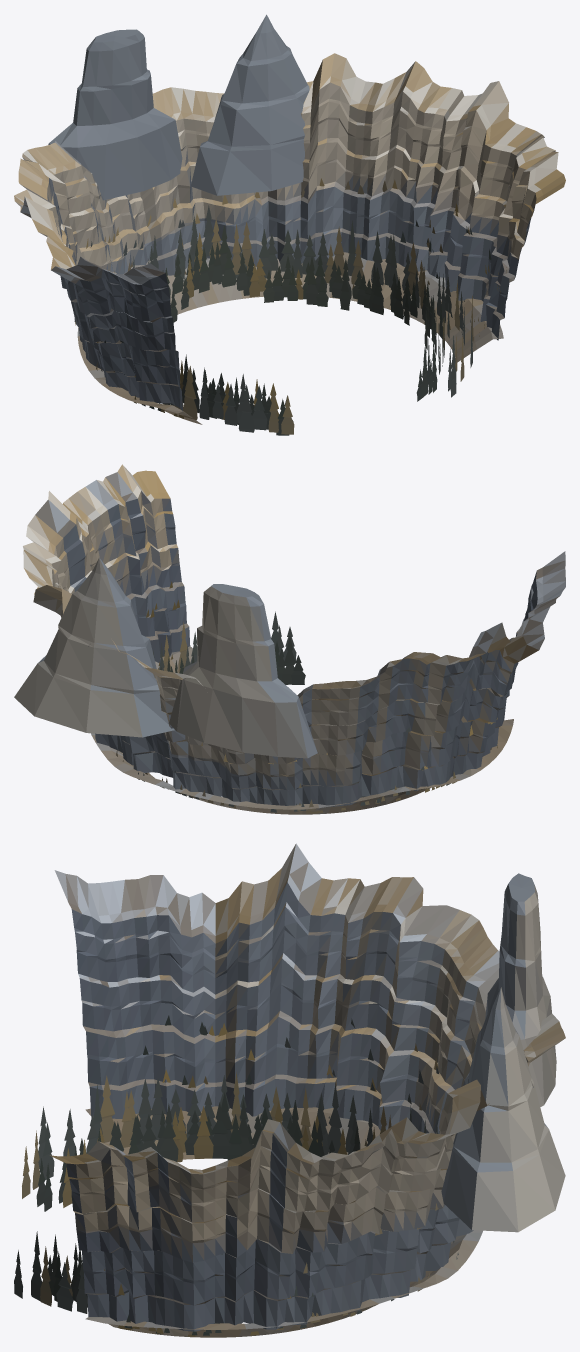
The model's file is backdrop.glb.
3 renders of one model, top to bottom at view 1: azimuth 30°, elevation 25°; view 2: azimuth 150°, elevation 25°; view 3: azimuth 270°, elevation 25°, orthographic. The views are drawn at different scales.
Visible parts, largest first — view 1: backdrop; view 2: backdrop; view 3: backdrop.
Boxes of the visible parts, x1=… form: backdrop: x1=14, y1=14, x2=565, y2=435; backdrop: x1=14, y1=464, x2=565, y2=814; backdrop: x1=14, y1=843, x2=565, y2=1337.
Size of the model in its own units: 134 by 68.9 by 104.
